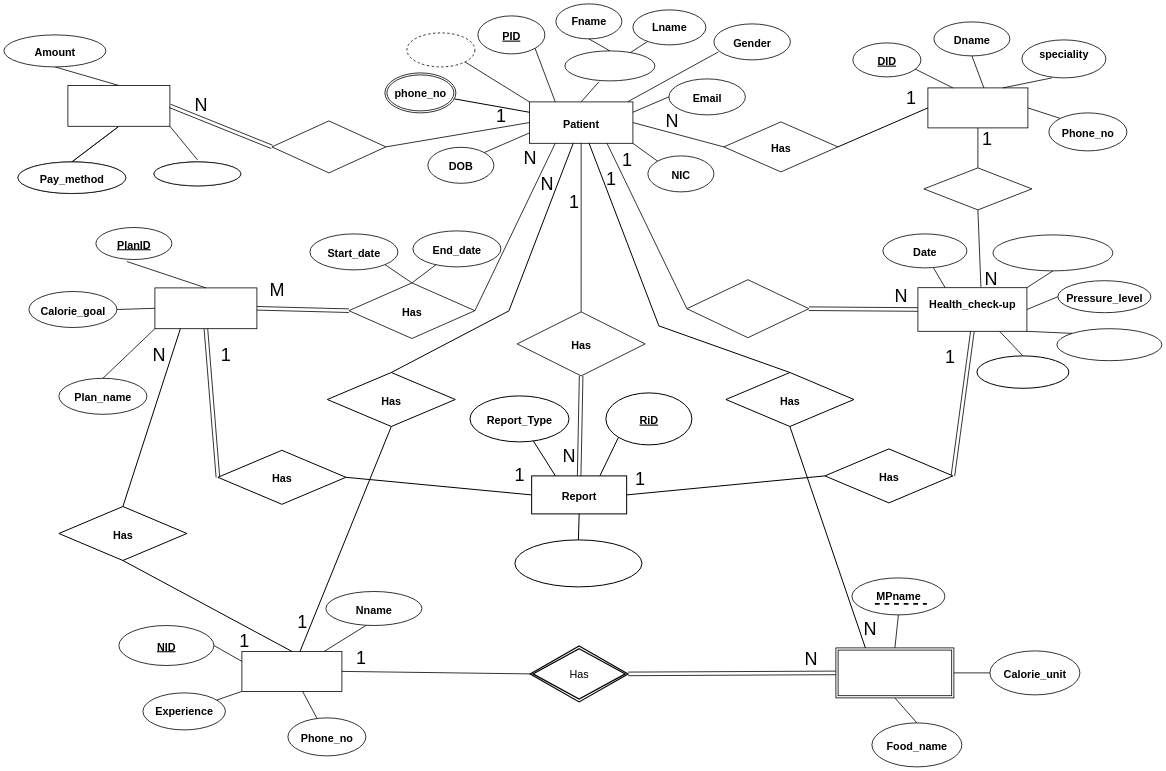
Image size: 1166x771. Some labels were removed from this diagram. Each missing label, with the box of its shape:
Age: (406, 32, 475, 67)
blood _sugar_level: (992, 234, 1113, 271)
Check-upID: (976, 355, 1069, 389)
Checks: (686, 279, 809, 338)
cholesterol_level: (1056, 328, 1162, 361)
Diet_Plan: (154, 287, 257, 329)
Doctor: (927, 87, 1028, 128)
Meal Plan: (835, 647, 954, 698)
Nutritionist: (241, 651, 342, 692)
PayID: (153, 161, 241, 186)
Payment: (67, 85, 170, 127)
Pays: (271, 120, 386, 173)
Pname: (564, 50, 655, 81)
Provides: (923, 167, 1032, 210)
Recommmendation: (514, 539, 642, 587)
